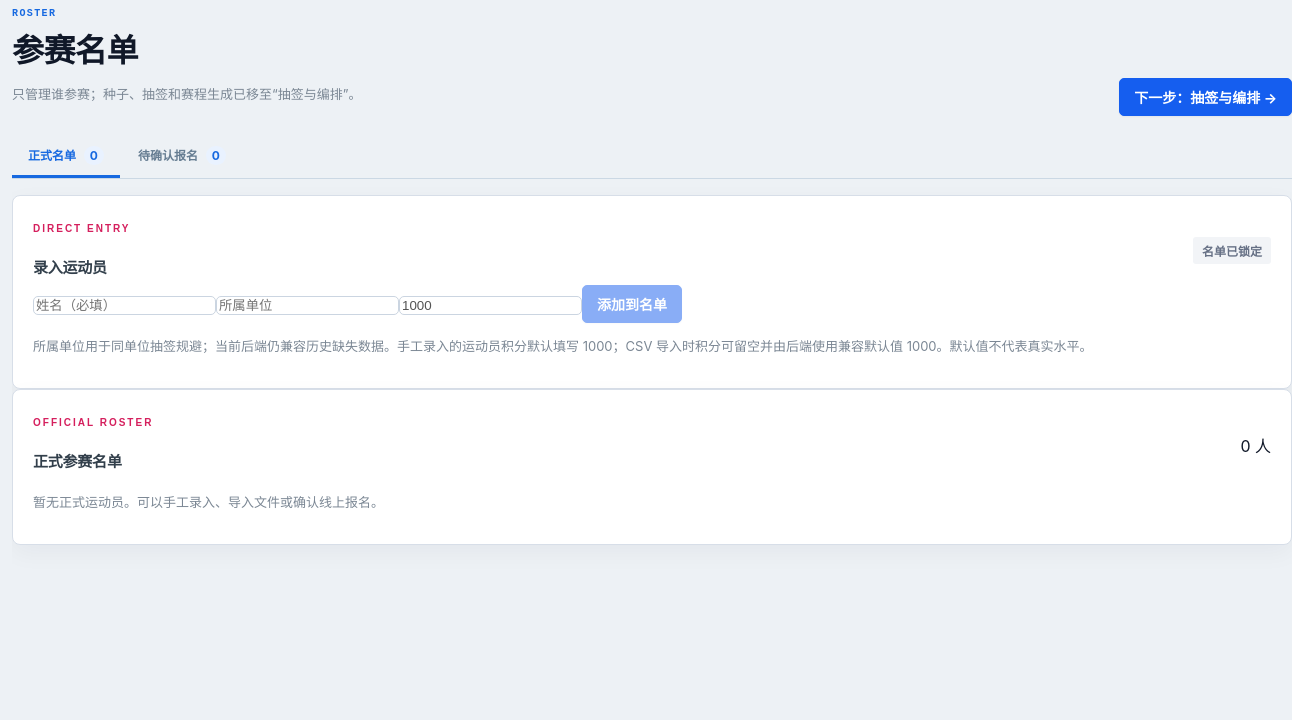
Test: 参赛名单与待确认报名 › 仍有待确认报名时保持当前 tab
Click the tab "待确认报名 0" at [182, 156], box [122,134,242,178]
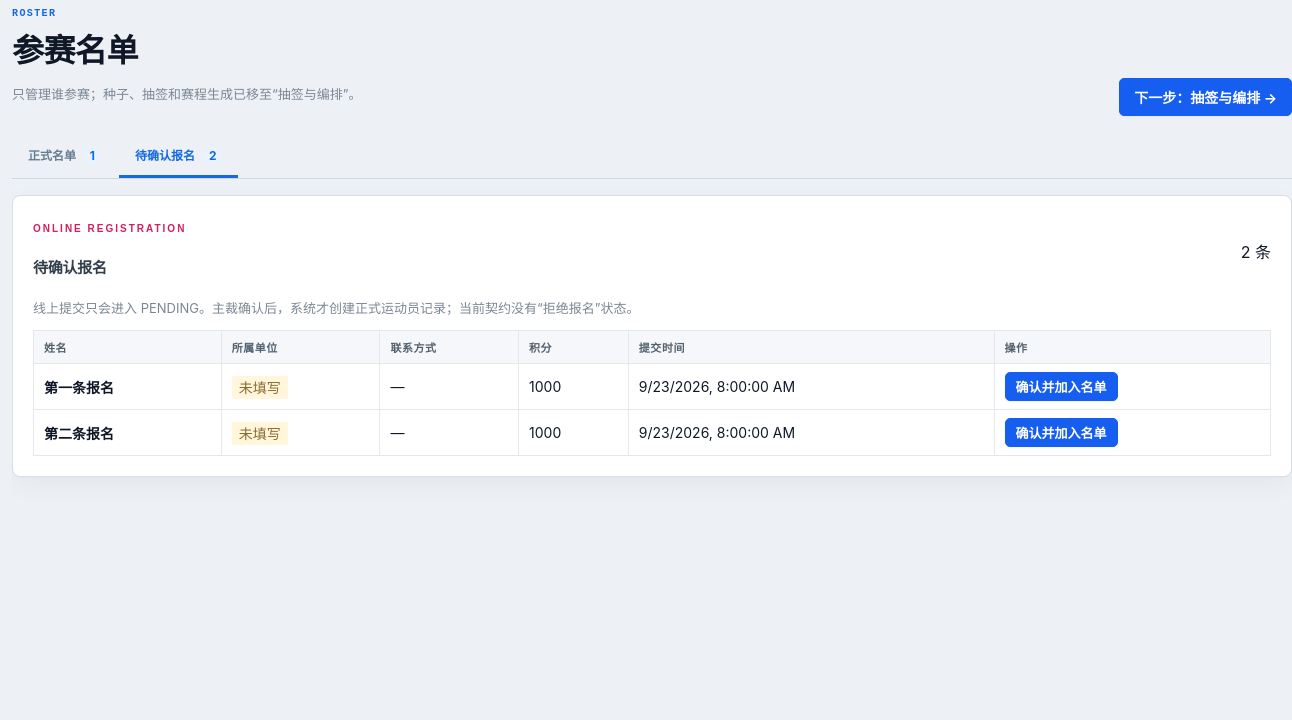
Click the button "确认并加入名单" in the row of "第一条报名" at [1061, 386], box [1005,372,1118,401]
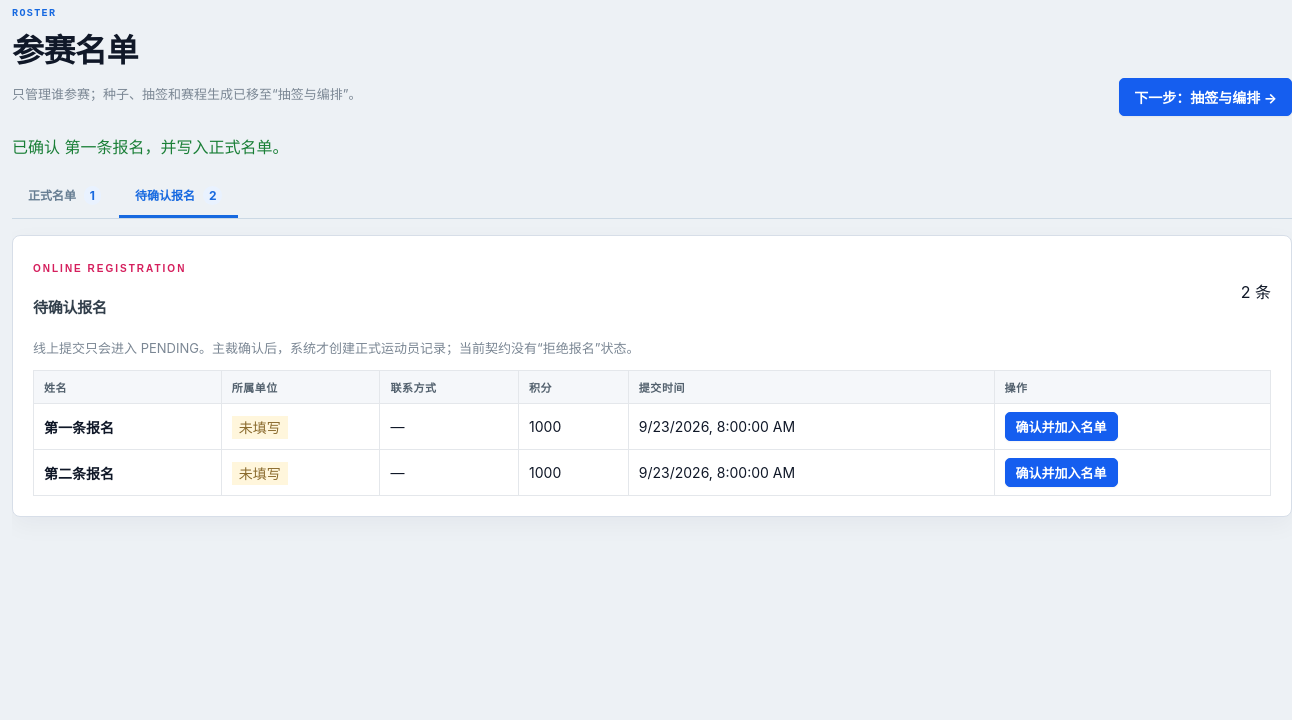
Result: the text "已确认 第一条报名，并写入正式名单。" is shown at [12,137,288,157]
